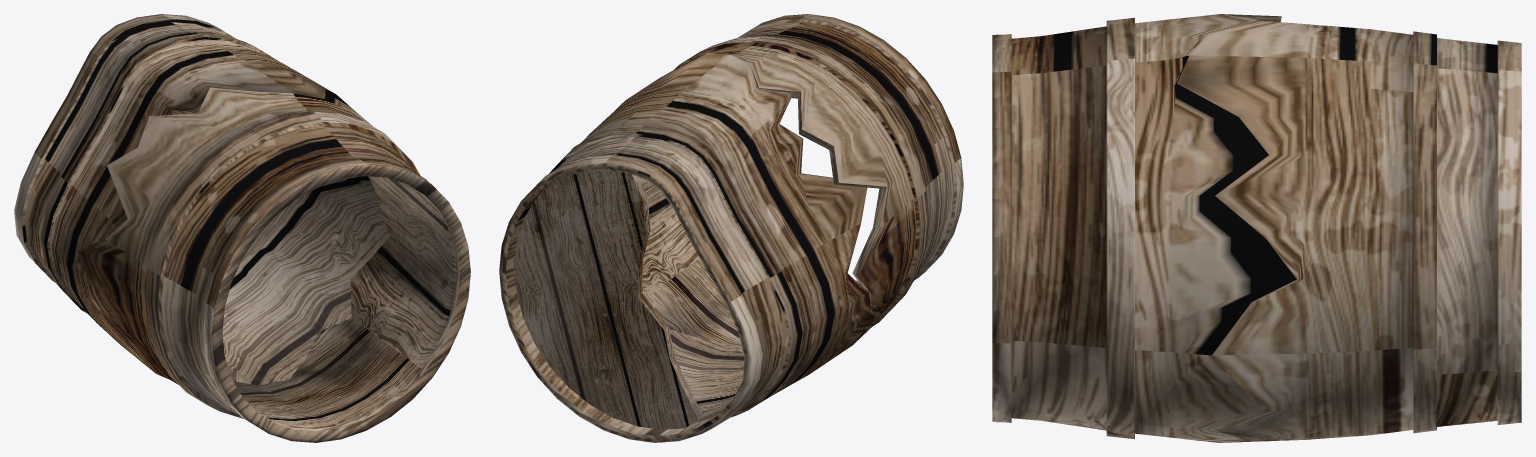
Rendered from BochkaDestoy.fbx.
3 renders of one model, left to right at view 1: azimuth 30°, elevation 25°; view 2: azimuth 150°, elevation 25°; view 3: azimuth 270°, elevation 25°, orthographic. The views are drawn at different scales.
Visible parts, largest first — view 1: BDP2, BDP1, BDP2 IN, BDP1 IN; view 2: BDP1, BDP2, BDP1Verh, BDP2 IN, BDP1 IN; view 3: BDP1, BDP2.
Boxes of the visible parts, box(x1,y1,x2,y2) form: BDP2: box(78, 87, 470, 442); BDP1: box(14, 14, 332, 372); BDP2 IN: box(233, 176, 456, 428); BDP1 IN: box(171, 87, 389, 385); BDP1: box(499, 53, 876, 442); BDP2: box(664, 14, 963, 325); BDP1Verh: box(514, 170, 703, 429); BDP2 IN: box(639, 67, 886, 353); BDP1 IN: box(642, 114, 850, 423); BDP1: box(1177, 20, 1521, 442); BDP2: box(992, 14, 1296, 442).
Size of the model in its own units: 225 by 227 by 280.
